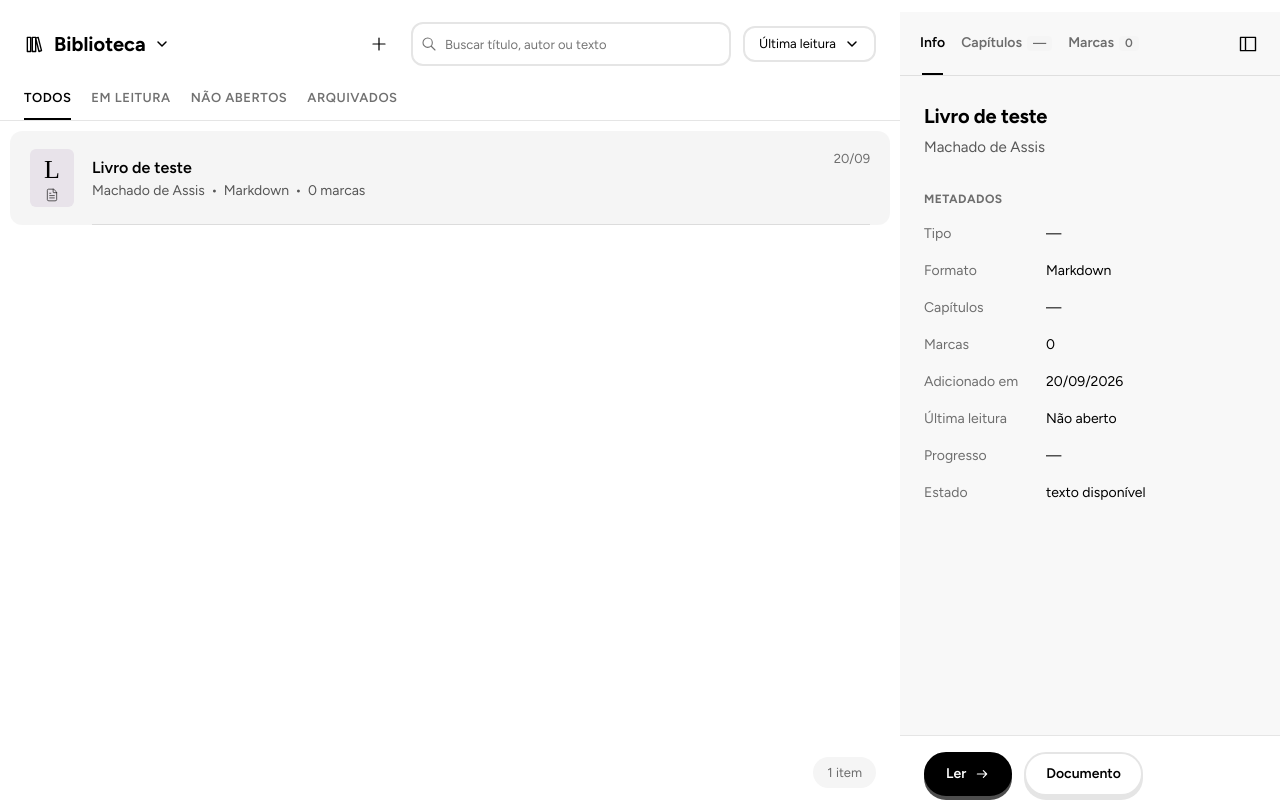
Test: busca no texto da biblioteca › U-07: "Buscando…" enquanto espera, "Nada encontrado" só com a resposta vazia da consulta atual, falha com nova tentativa
Expected: the link "Livro de teste" is shown, [92,158,192,176]
Type "primeira" into the search field at [571, 44], box [411,22,731,66]
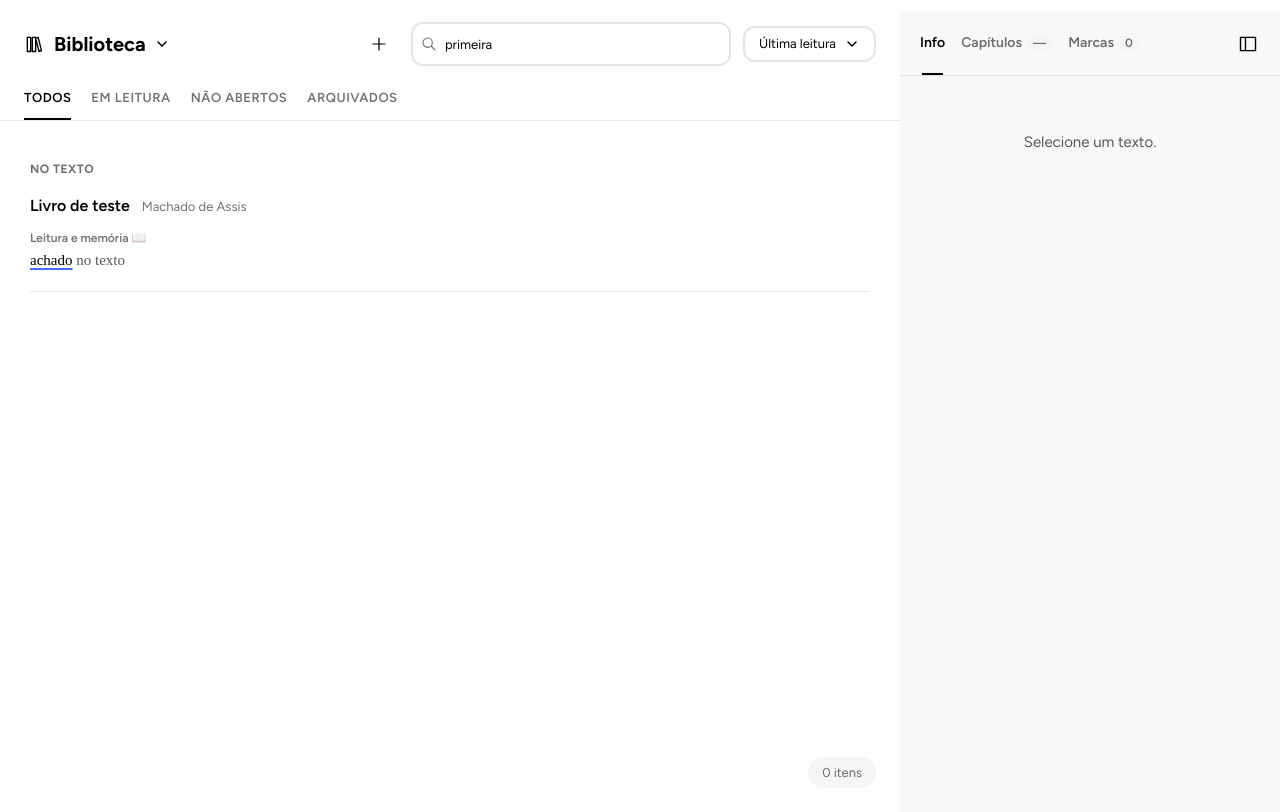
Expected: the text "encontrado." is not shown
Now the element named "Encontrado no texto" is shown, box [0,141,900,316]
# Trocar o termo tira os resultados da consulta anterior da tela na hora.
Replace the text in the search field with "segunda" at [571, 44], box [411,22,731,66]
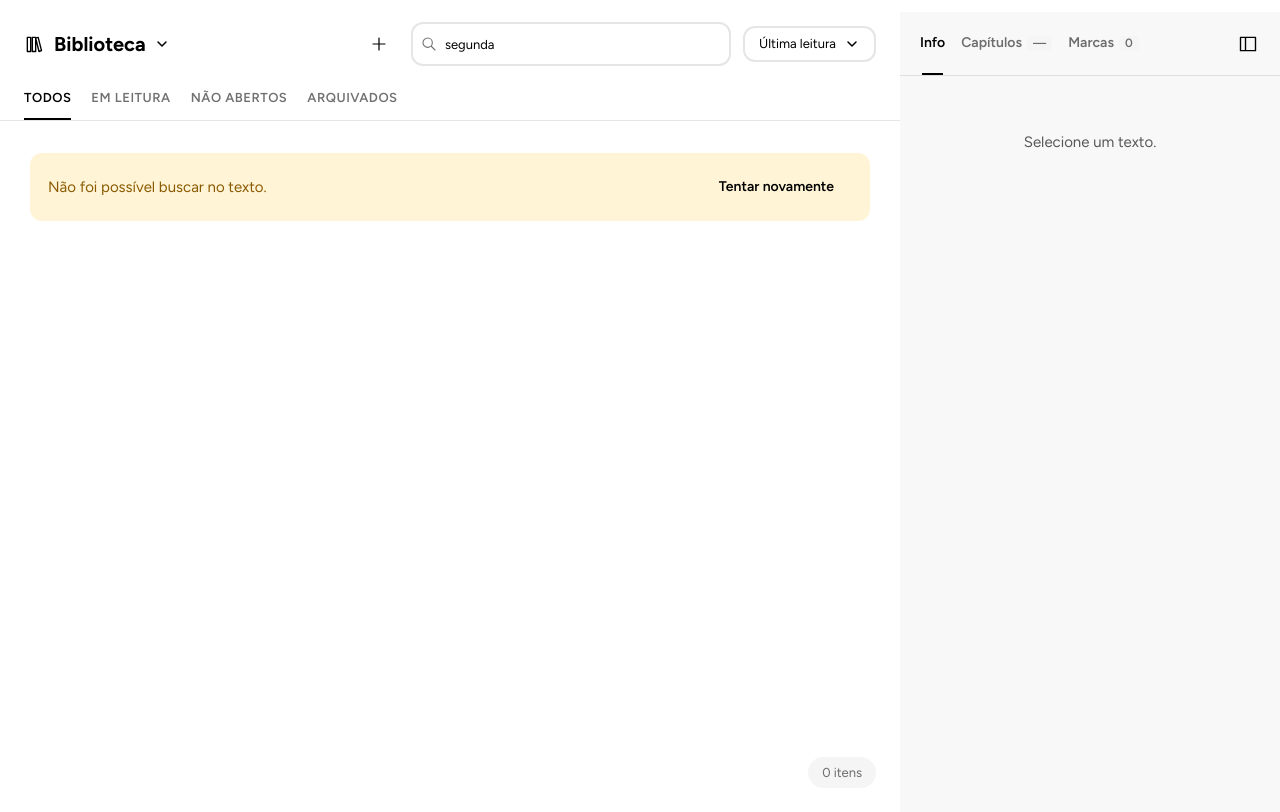
Expected: the text "encontrado." is not shown
Now the message shows "Não foi possível buscar no texto.", box [48,178,267,196]
Click the button "Tentar novamente" at [776, 187], box [701,167,852,207]
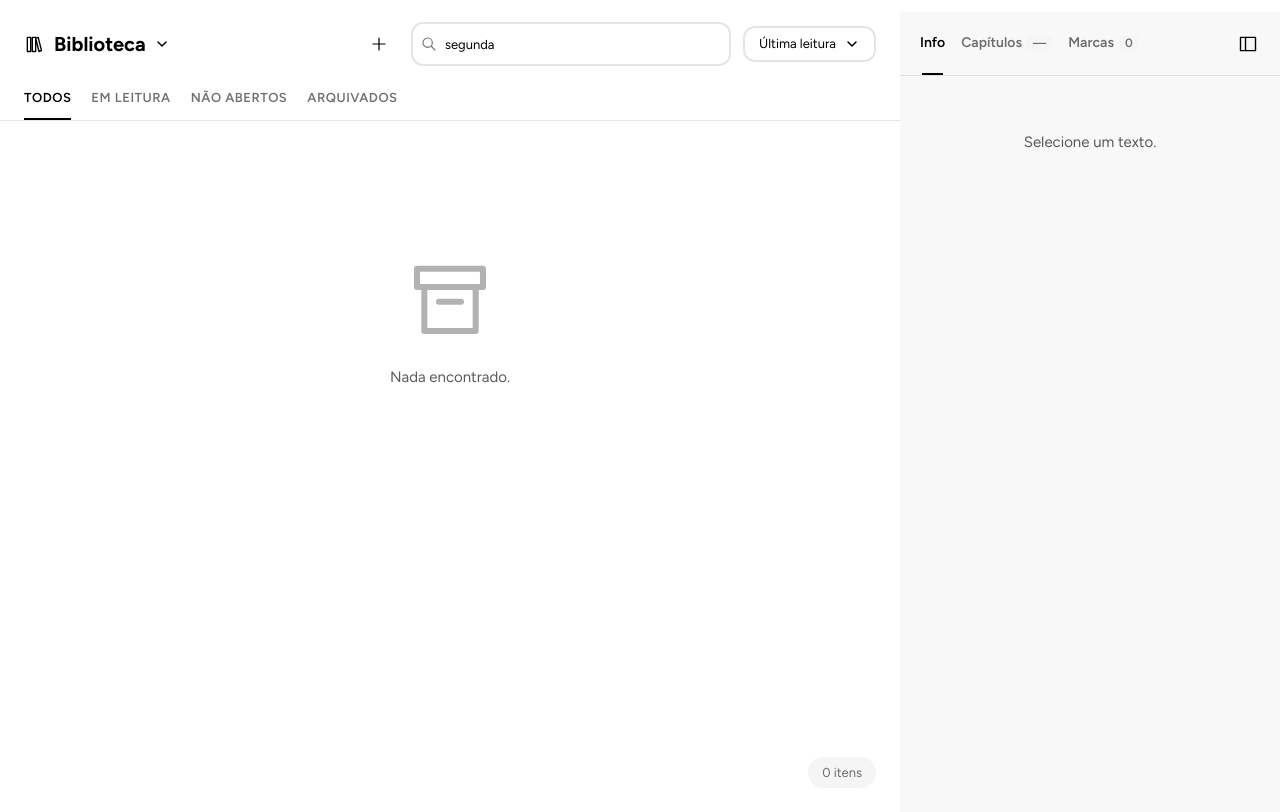
Now the text "Nada encontrado." is shown, box [390,366,510,388]
